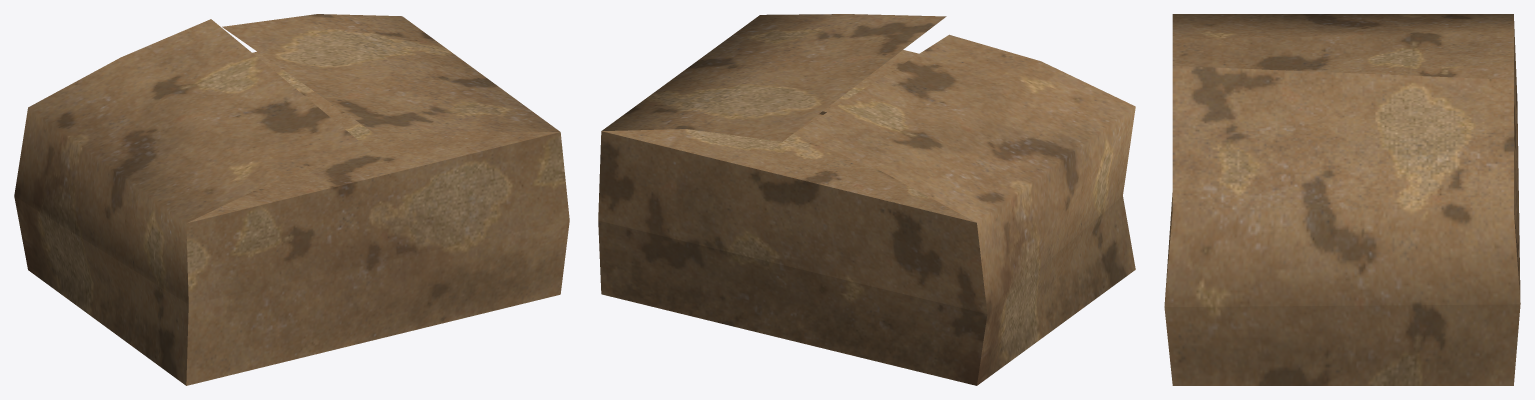
The model's file is cardboard_box_01.fbx.
The picture shows the model from 3 angles, left to right: view 1: azimuth 30°, elevation 25°; view 2: azimuth 150°, elevation 25°; view 3: azimuth 270°, elevation 25°; orthographic projection. The views are drawn at different scales.
Parts seen in each view (by area): view 1: Cardboard_box_01; view 2: Cardboard_box_01; view 3: Cardboard_box_01.
Part boxes in pixels (x1=…): Cardboard_box_01: x1=14, y1=14, x2=569, y2=385; Cardboard_box_01: x1=598, y1=14, x2=1135, y2=385; Cardboard_box_01: x1=1164, y1=14, x2=1520, y2=385.
Bounding box in the file's own units: 0.00996 × 0.00501 × 0.00728.
Materials: 1 (1 with a texture image).
